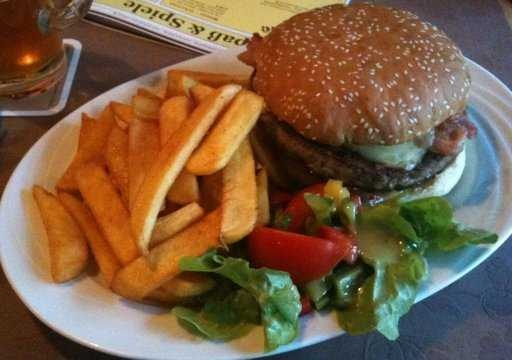hamburger: (241, 19, 465, 195)
